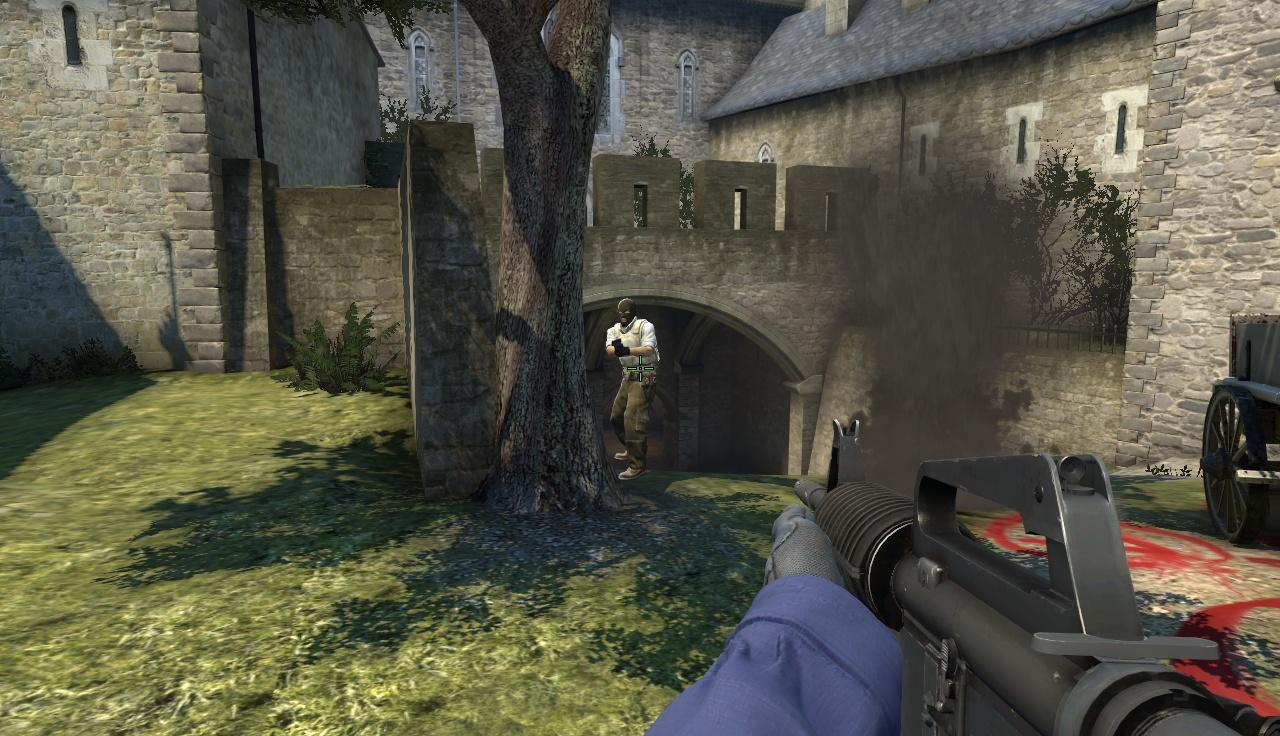rifle: (789, 413, 1280, 731)
tt: (606, 297, 654, 498)
tthead: (617, 301, 638, 329)
